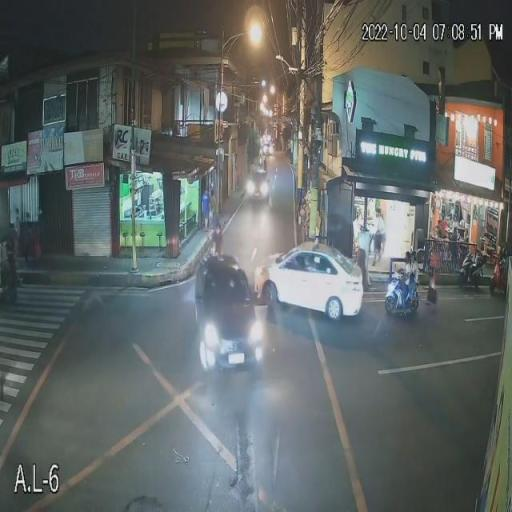helmet: (404, 250, 411, 263), (411, 251, 417, 263)
motorcycle: (384, 281, 421, 313)
rider: (408, 262, 420, 310), (402, 262, 412, 316)
